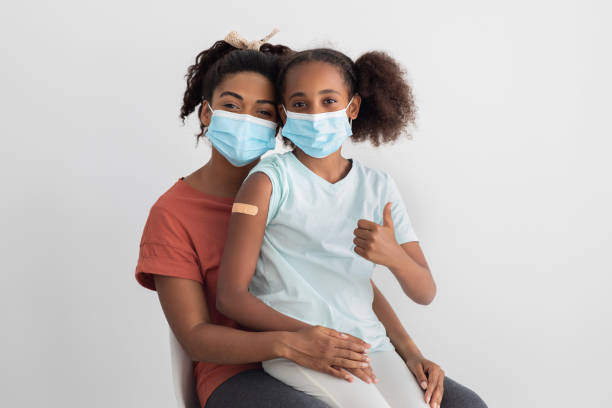with mask: (200, 45, 283, 166), (278, 49, 358, 162)
